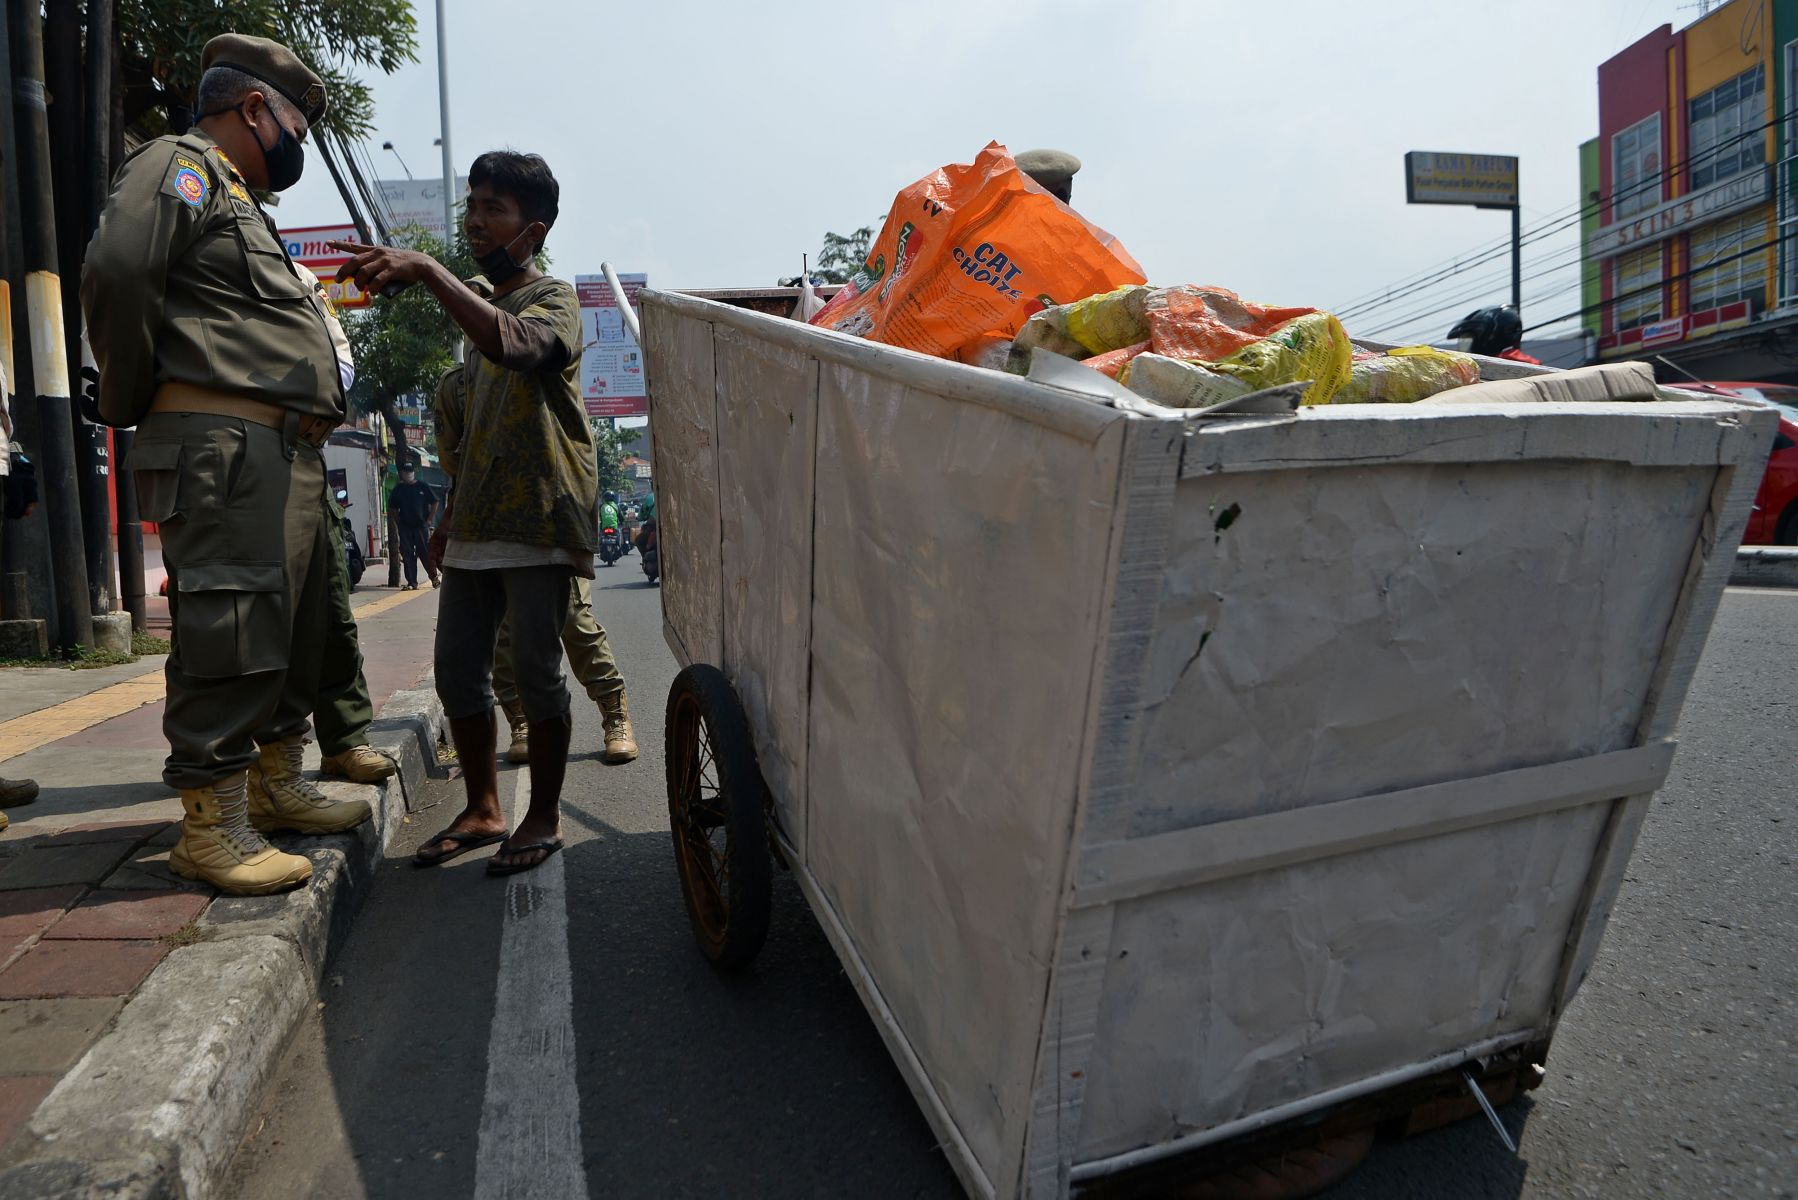pemulung: (420, 142, 1740, 1200)
